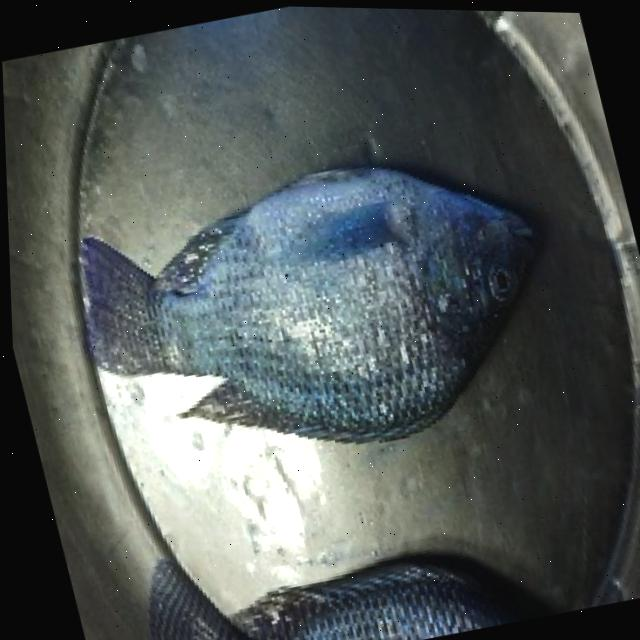Fresh: (42, 80, 598, 518)
